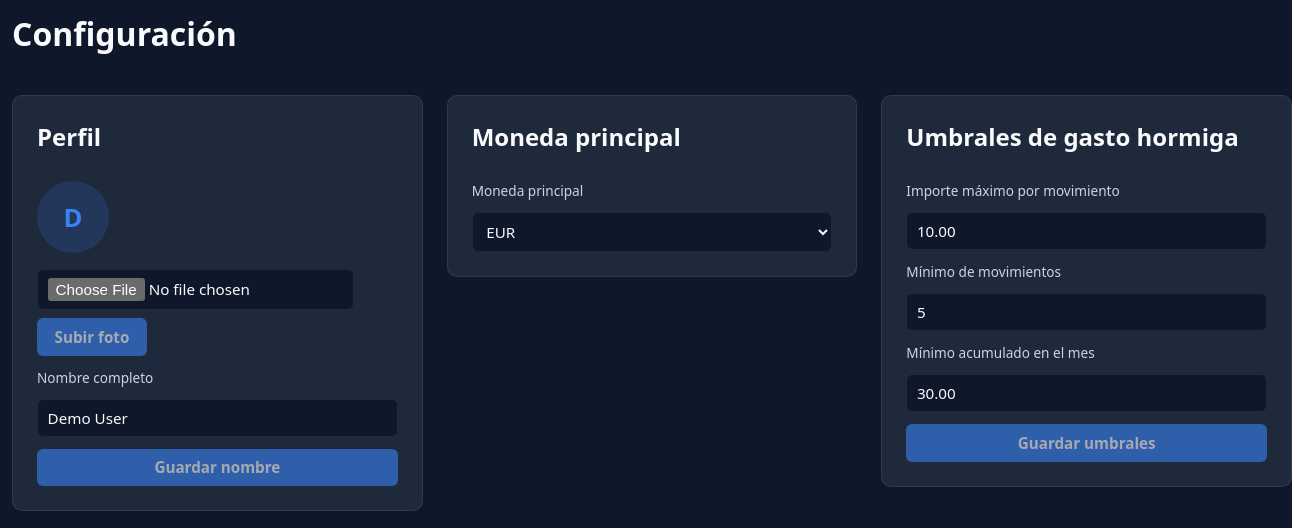
Test: PreferencesPage › aplica el cambio de moneda solo tras confirmar
This screenshot has width=1292, height=528.
Select "USD" in the dropdown labelled "Moneda principal" at (652, 232), box left=472, top=212, right=832, bottom=252
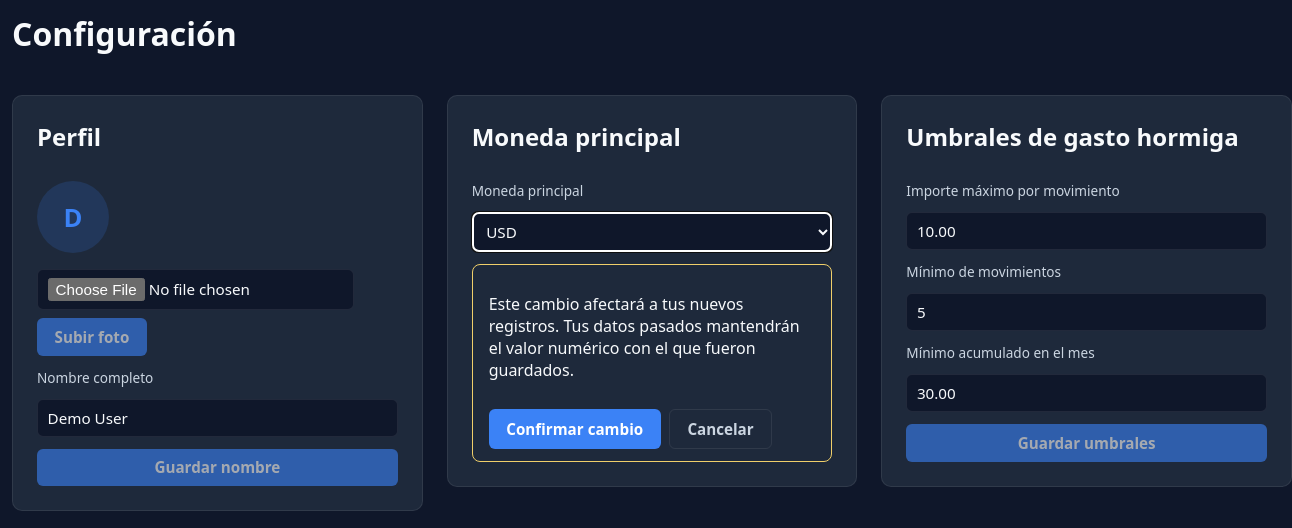
Click the button "Confirmar cambio" at (575, 429), box left=489, top=409, right=661, bottom=449
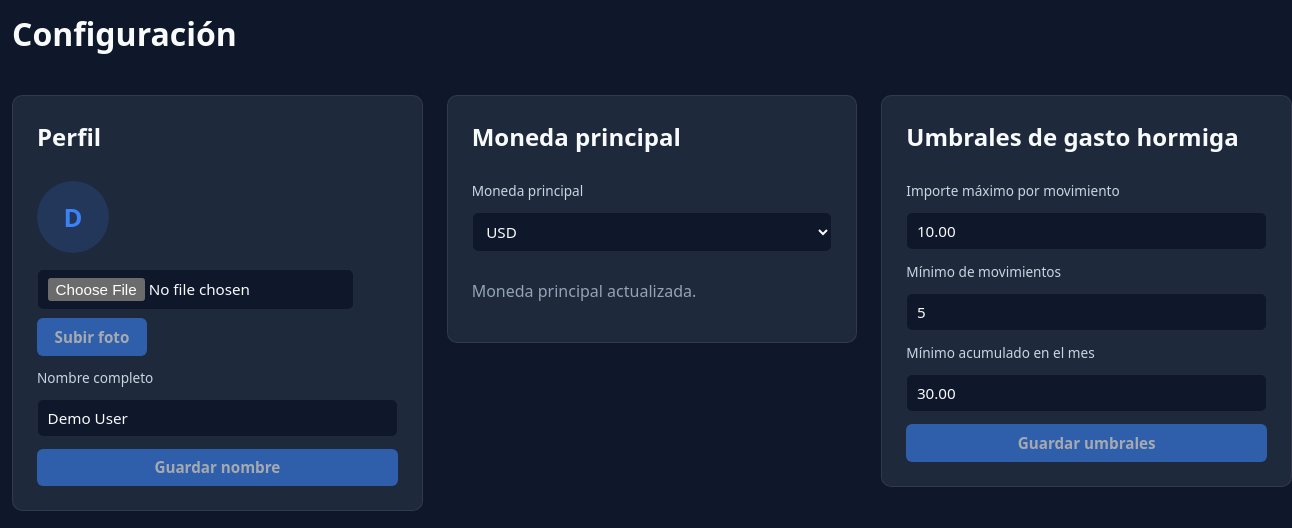
Check: the text "Moneda principal actualizada." is shown, box left=472, top=280, right=696, bottom=302
